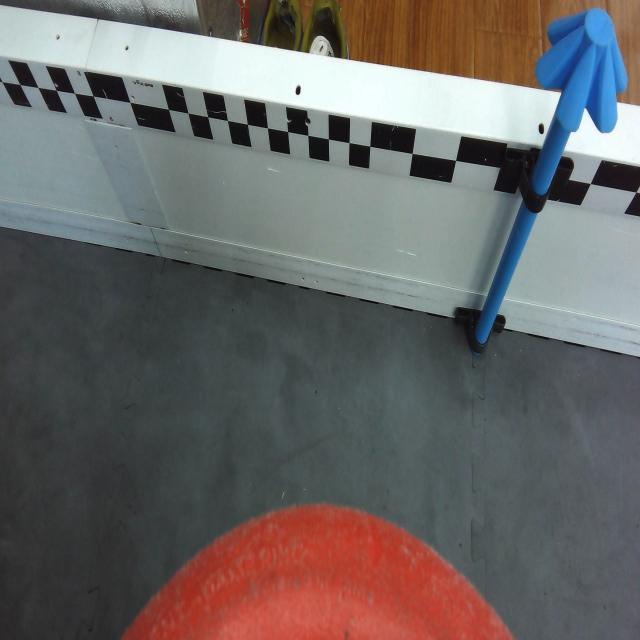zblue-Stake-Head: (535, 6, 629, 133)
